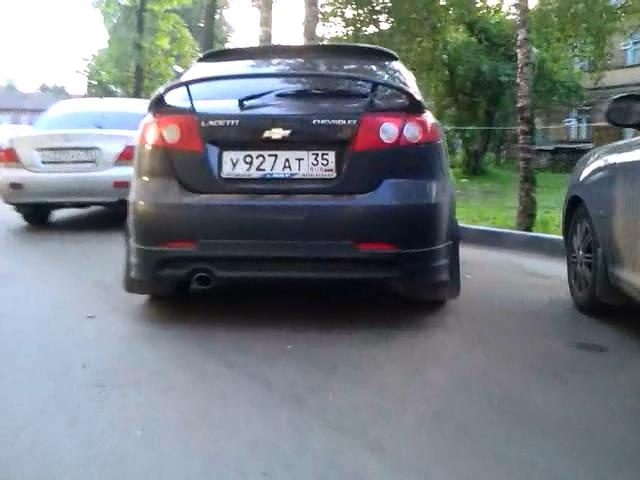car license plate: (217, 144, 339, 183), (38, 146, 100, 165)
